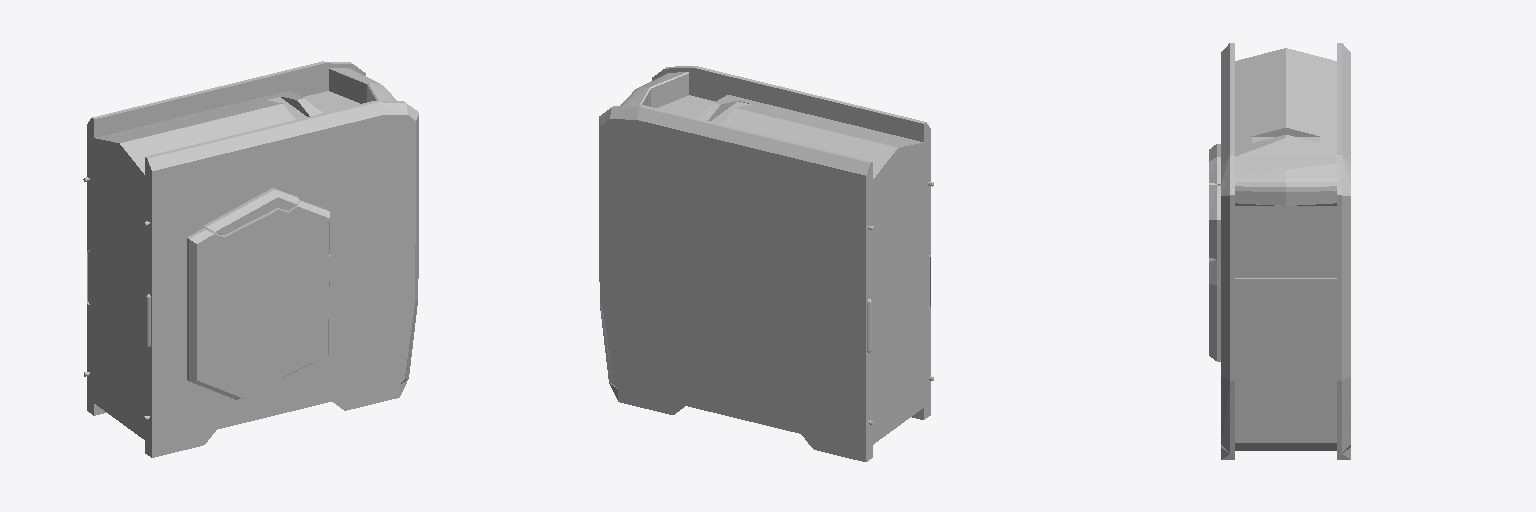
Rendered from CPU.obj.
3 renders of one model, left to right at view 1: azimuth 30°, elevation 25°; view 2: azimuth 150°, elevation 25°; view 3: azimuth 270°, elevation 25°, orthographic.
Parts seen in each view (by area): view 1: computer; view 2: computer; view 3: computer.
Boxes of the visible parts, <box> form: computer: <box>83,61,418,457</box>; computer: <box>599,66,933,461</box>; computer: <box>1209,43,1350,459</box>.
Size of the model in its own units: 4.88 by 5 by 2.16.